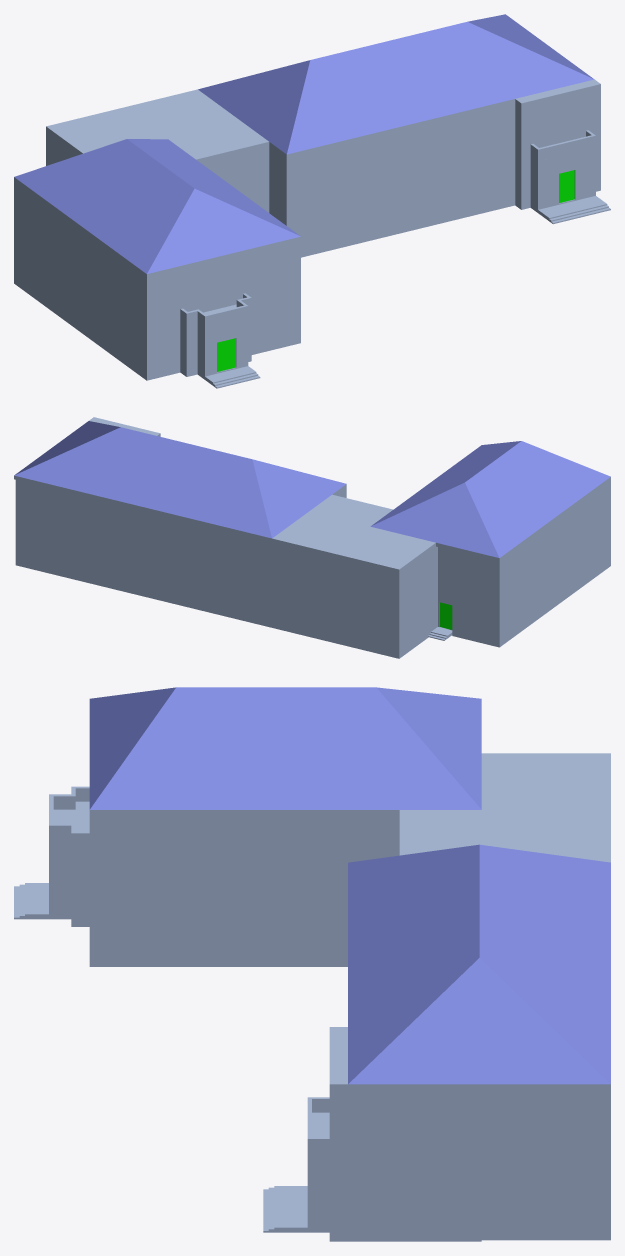
File: Water_Quality_Building.glb
The picture shows the model from 3 angles, top to bottom: view 1: azimuth 30°, elevation 25°; view 2: azimuth 150°, elevation 25°; view 3: azimuth 270°, elevation 25°; orthographic projection. The views are drawn at different scales.
Visible parts, largest first — view 1: Roof, Floor2, Floor1; view 2: Roof, Floor1, Floor2; view 3: Roof, Floor1, Floor2.
Part boxes in pixels (left/top/right/bottom): Roof: left=14, top=14, right=600, bottom=278; Floor2: left=14, top=88, right=600, bottom=328; Floor1: left=14, top=138, right=610, bottom=388; Roof: left=14, top=417, right=610, bottom=573; Floor1: left=15, top=521, right=610, bottom=658; Floor2: left=15, top=480, right=610, bottom=614; Roof: left=89, top=687, right=610, bottom=1090; Floor1: left=14, top=842, right=610, bottom=1241; Floor2: left=49, top=786, right=610, bottom=1164.
Bounding box in the file's own units: 49.42 × 13.4 × 32.34.
